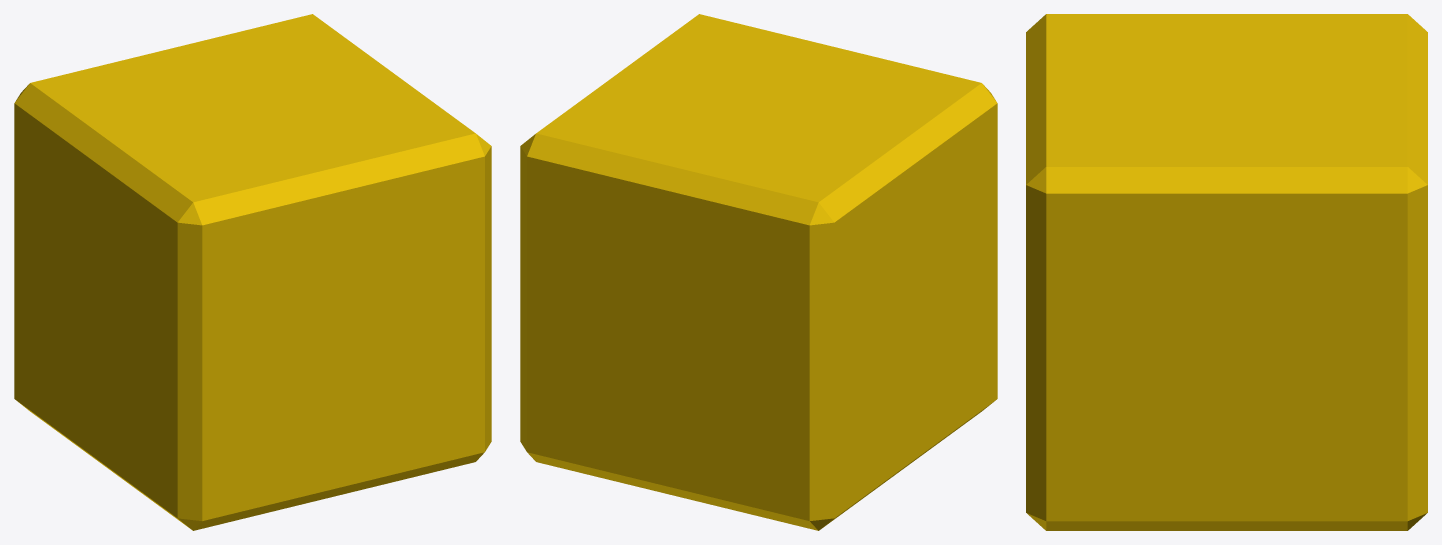
The model's file is Normalblock.fbx.
The picture shows the model from 3 angles, left to right: view 1: azimuth 30°, elevation 25°; view 2: azimuth 150°, elevation 25°; view 3: azimuth 270°, elevation 25°; orthographic projection. The views are drawn at different scales.
Parts seen in each view (by area): view 1: pCube1; view 2: pCube1; view 3: pCube1.
Boxes of the visible parts, x1,y1,x2,y2 form: pCube1: [14, 14, 491, 530]; pCube1: [520, 14, 997, 530]; pCube1: [1026, 14, 1427, 530].
Bounding box in the file's own units: 2 × 2 × 2.
